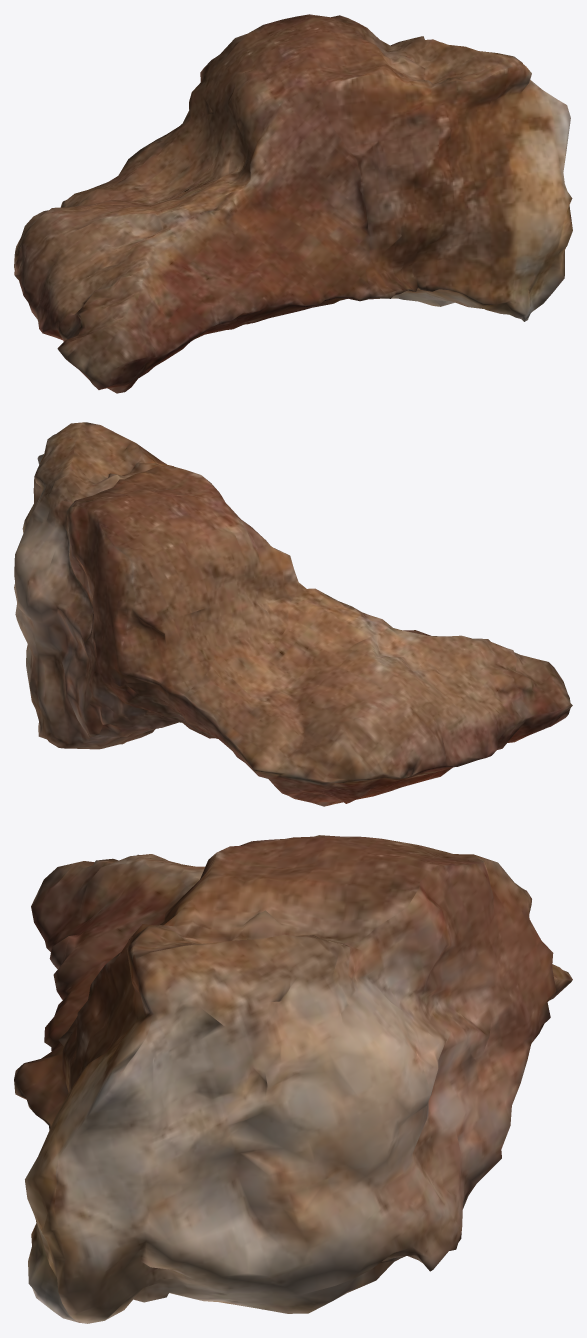
3 renders of one model, top to bottom at view 1: azimuth 30°, elevation 25°; view 2: azimuth 150°, elevation 25°; view 3: azimuth 270°, elevation 25°, orthographic. The views are drawn at different scales.
Parts seen in each view (by area): view 1: stone_01_lod0; view 2: stone_01_lod0; view 3: stone_01_lod0.
Boxes of the visible parts, x1,y1,x2,y2 form: stone_01_lod0: (14, 14, 572, 393); stone_01_lod0: (14, 422, 572, 806); stone_01_lod0: (14, 835, 572, 1323).
Size of the model in its own units: 0.1465 by 0.0713 by 0.0889.
1 material, 1 textured.
